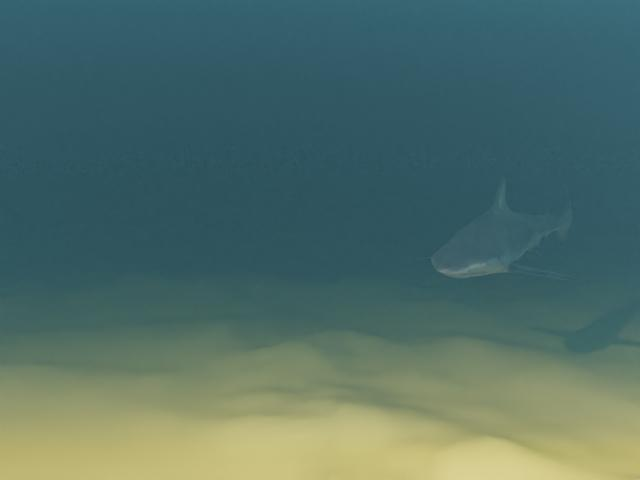Carribean Shark.001: (414, 171, 585, 281)
